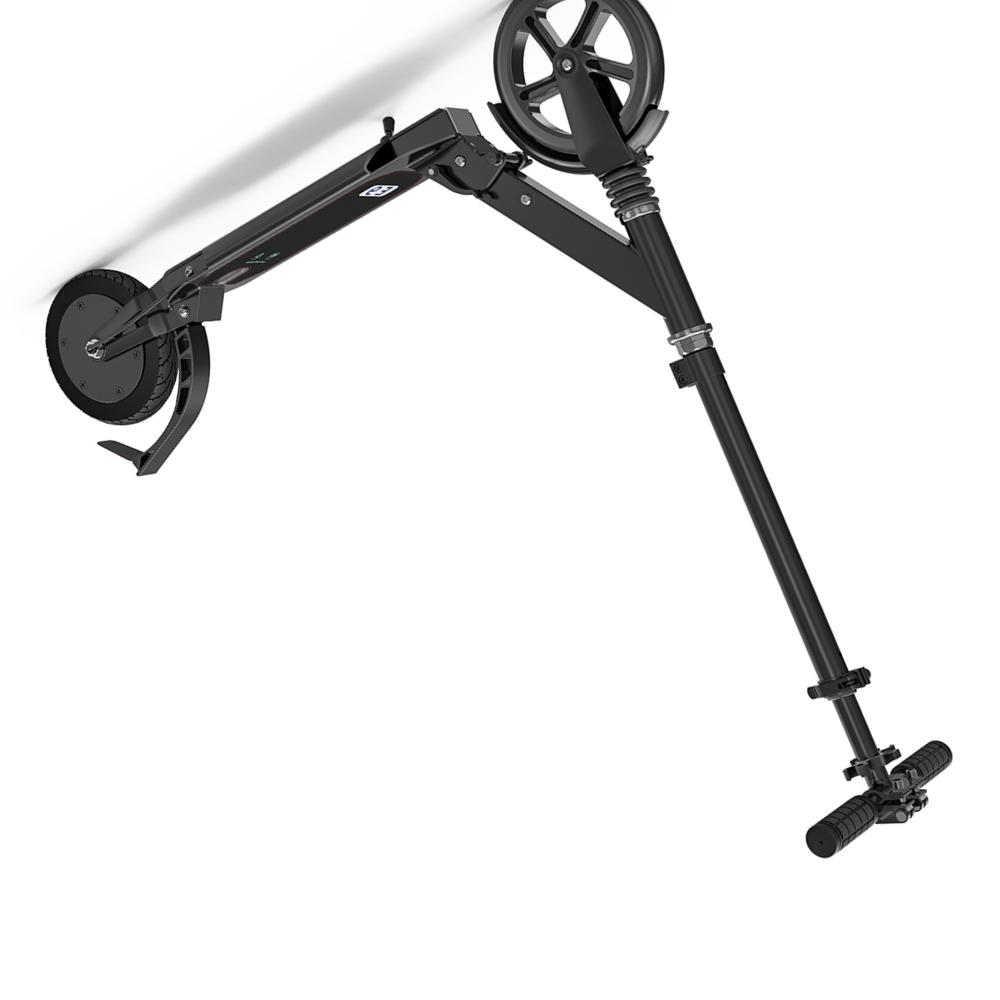scooter: (41, 1, 953, 858)
